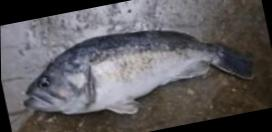fish: (20, 29, 255, 116)
